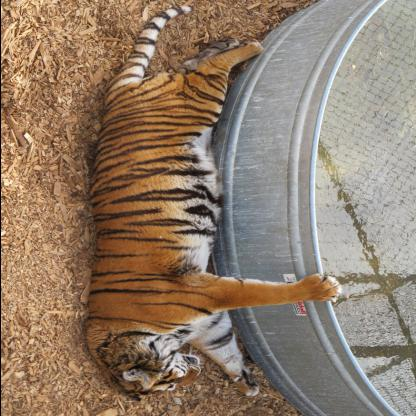tiger: (93, 323, 210, 407)
